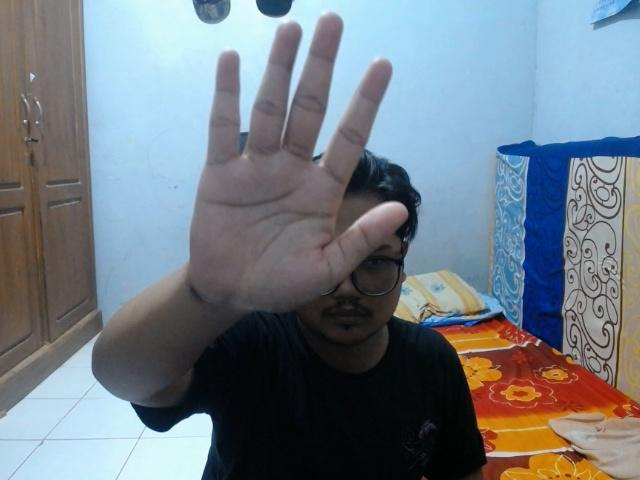Release: (183, 6, 412, 321)
